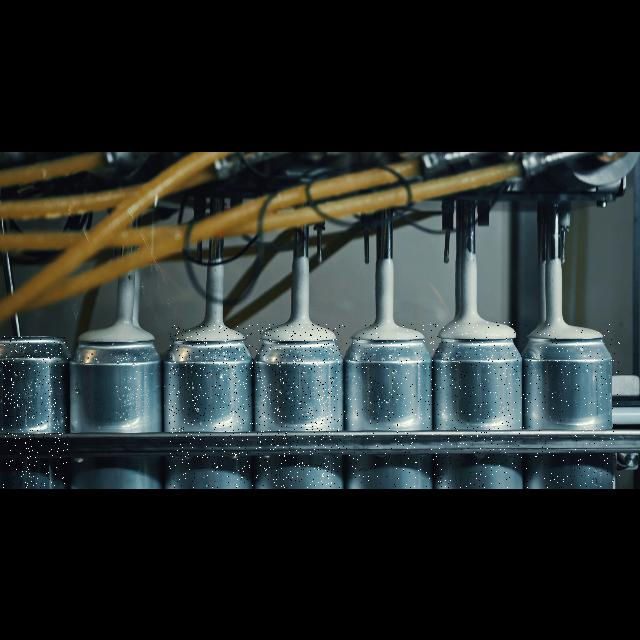empty: (2, 336, 68, 488)
full: (522, 324, 620, 488), (429, 322, 525, 488), (340, 324, 432, 488), (76, 324, 164, 488), (256, 324, 344, 488), (169, 324, 253, 488)
